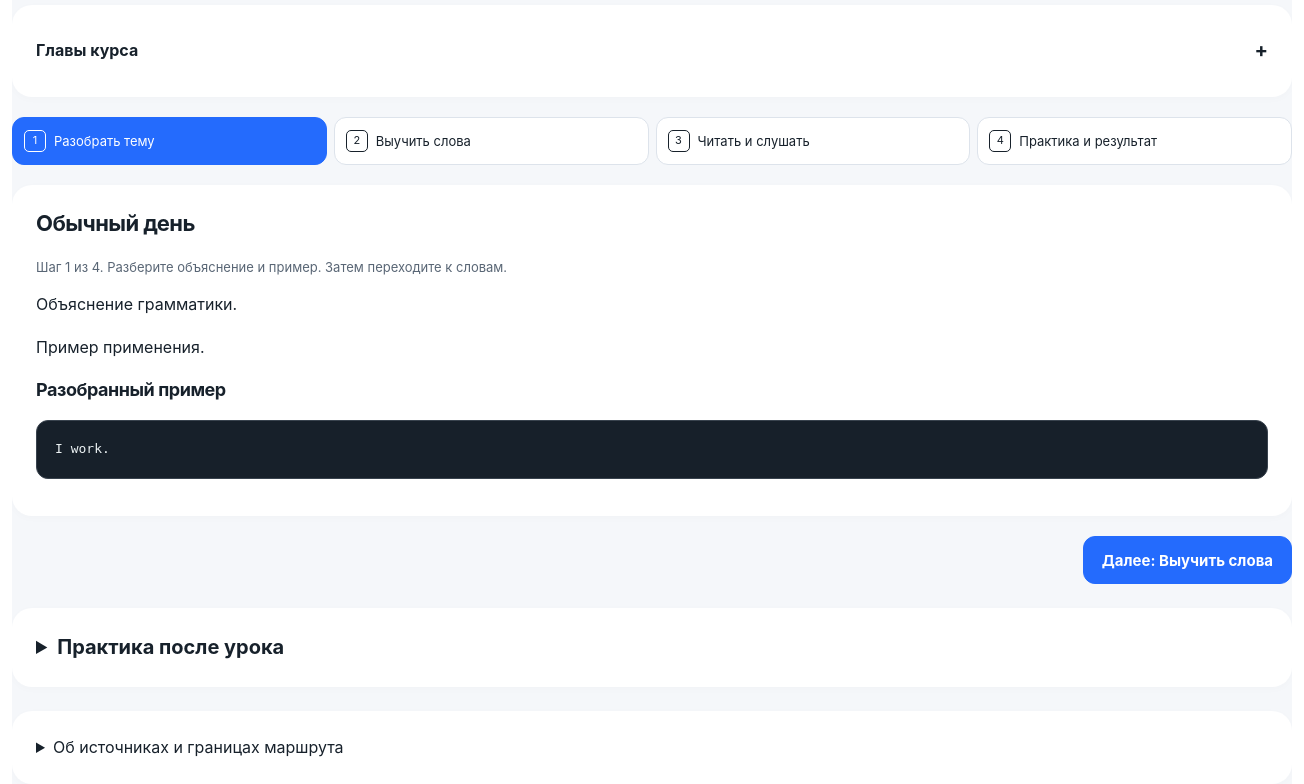
Test: english route offers level-specific optional practice with direct tasks
(page scrolled)
Click the heading "Практика после урока".
click(171, 647)  # box [57,635,284,659]
(page scrolled)
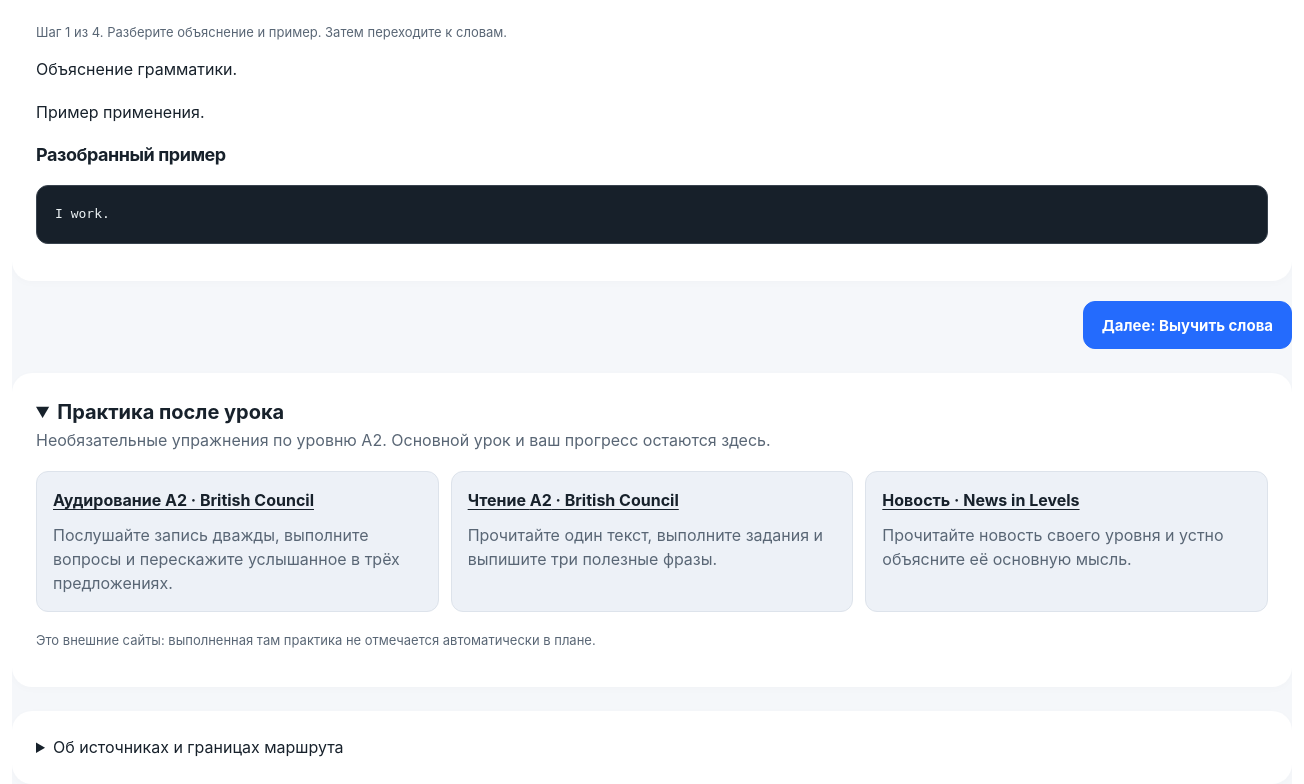
Expected: the text "Послушайте запись" is shown, [53,525,400,593]
